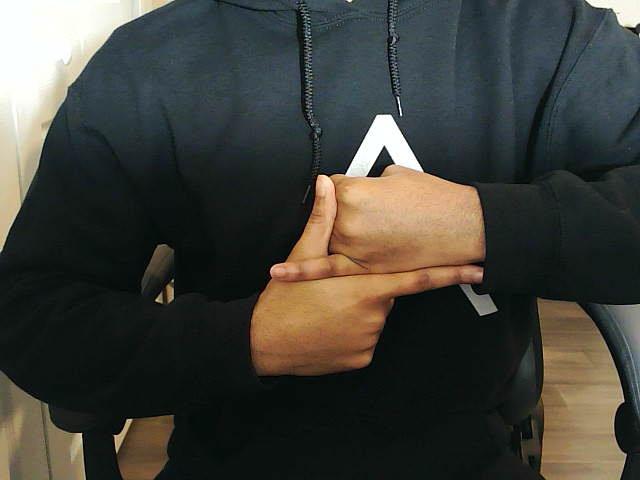Hare: (253, 164, 482, 378)
